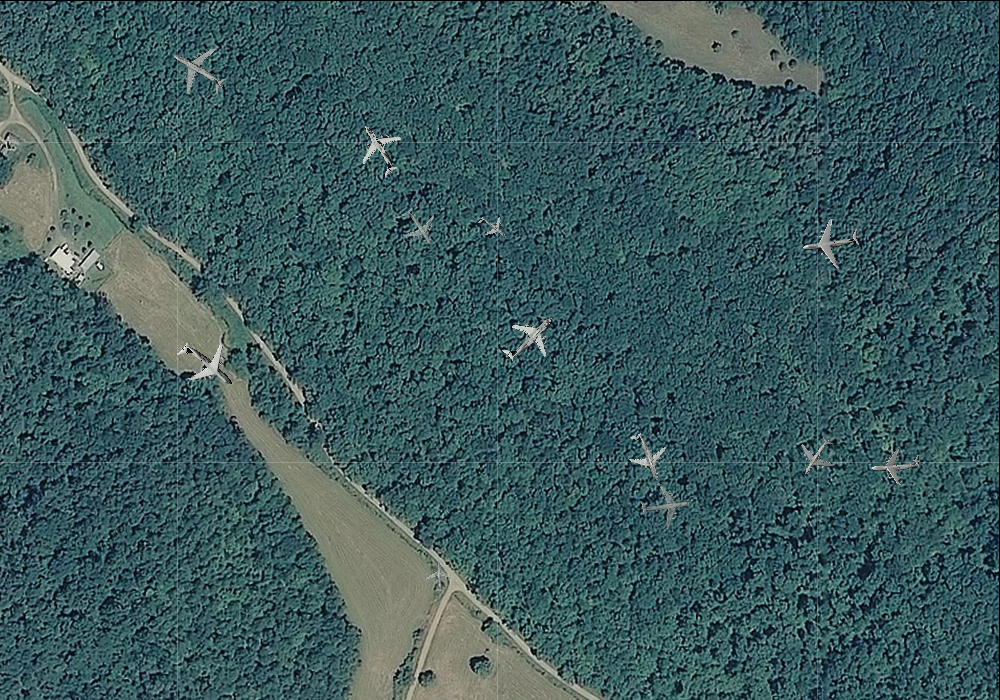plane: (163, 323, 248, 407), (489, 297, 569, 377), (158, 31, 237, 109), (342, 112, 415, 186), (799, 211, 863, 272), (616, 425, 676, 488), (390, 198, 447, 256), (788, 428, 845, 485), (637, 478, 694, 533), (871, 442, 921, 487), (471, 206, 513, 248), (423, 560, 454, 593)
